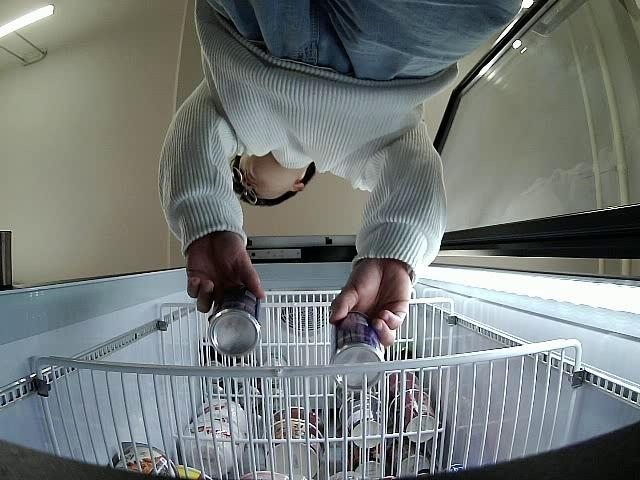16_hot6: (325, 310, 389, 389), (207, 285, 263, 357)
